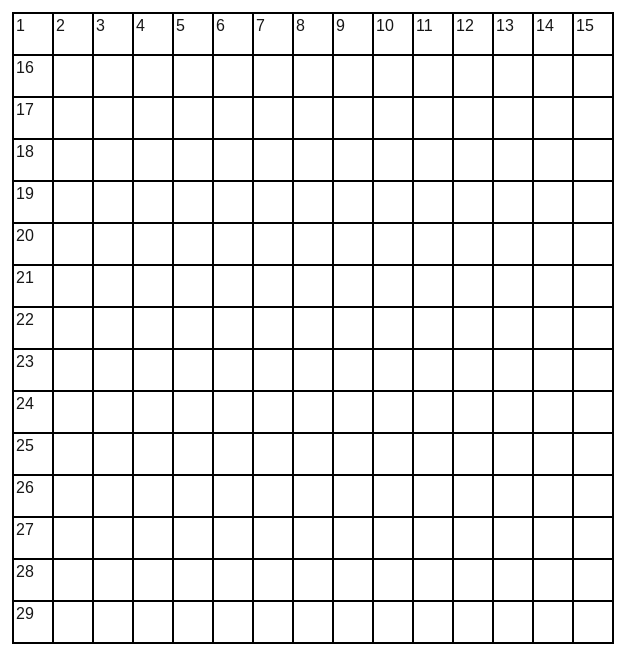
Test: Text Edit Mode › allows numbers
This screenshot has width=631, height=661.
Click the 1st field with test id "crossword-input" at (34, 34), box top-left (14, 14), bottom-right (54, 54)
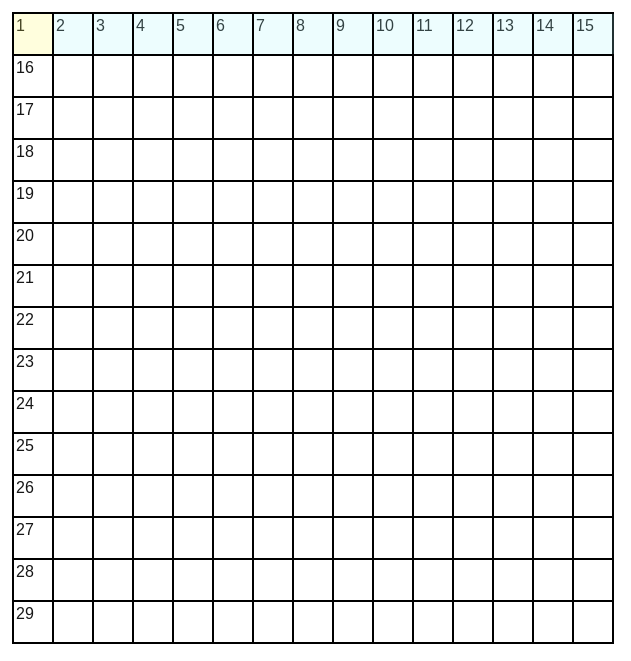
Type keys "1"
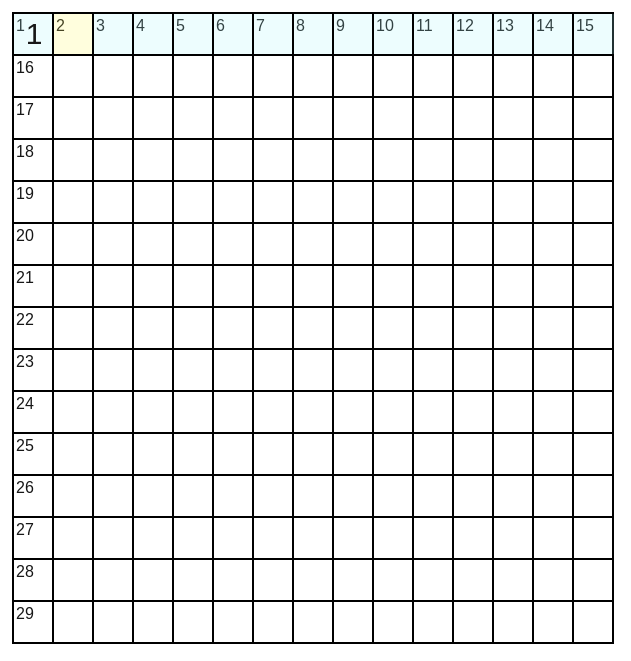
Check: the 1st field with test id "crossword-input" holds "1", box top-left (14, 14), bottom-right (54, 54)
